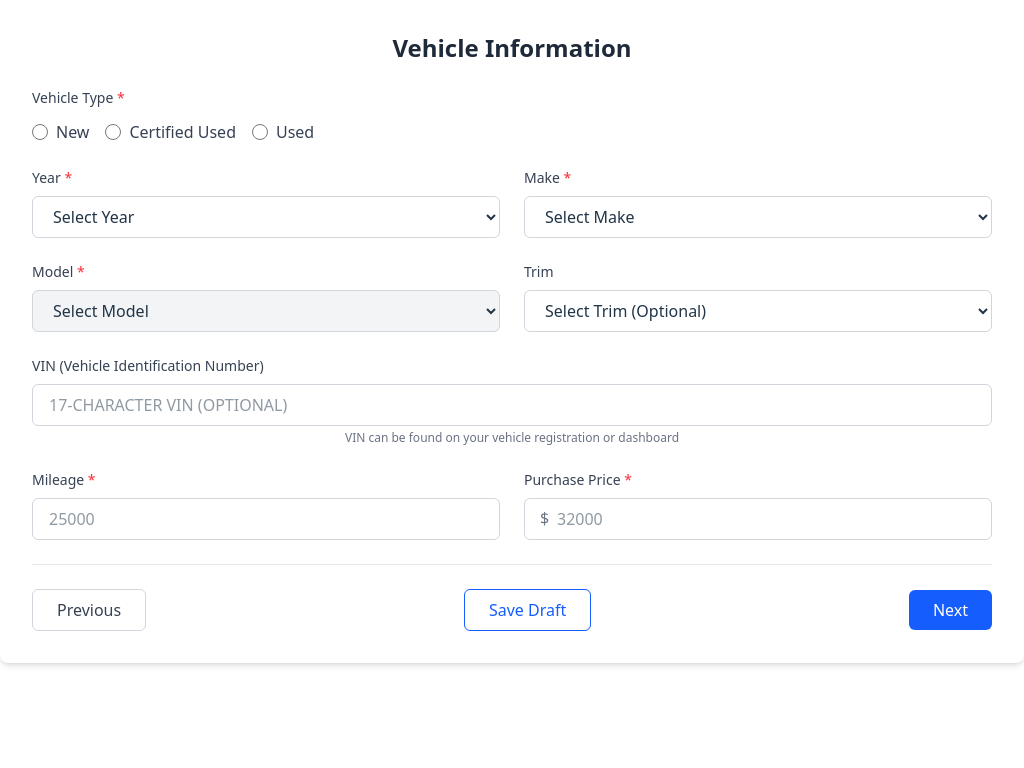
Test: VehicleInformation Component › Validation - VIN › should show error for invalid VIN length
Type "123" into the field labelled "VIN (Vehicle Identification Number)".
click(512, 405); type("123")  # box [32,384,992,426]
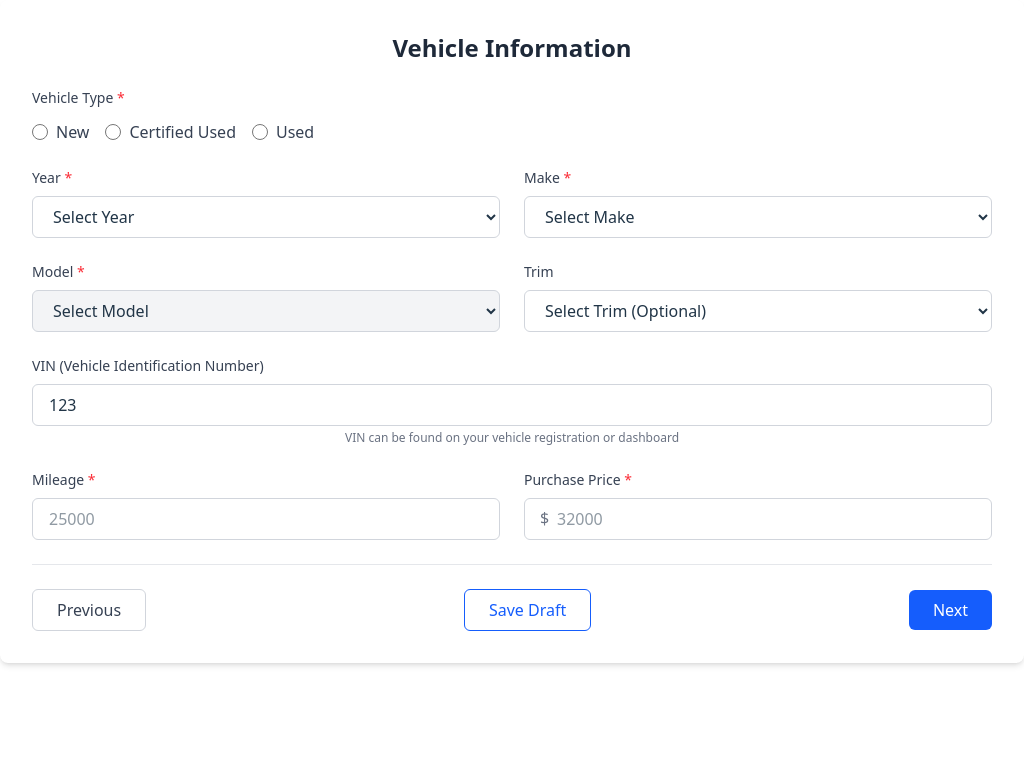
Leave the field labelled "VIN (Vehicle Identification Number)", box [32,384,992,426]
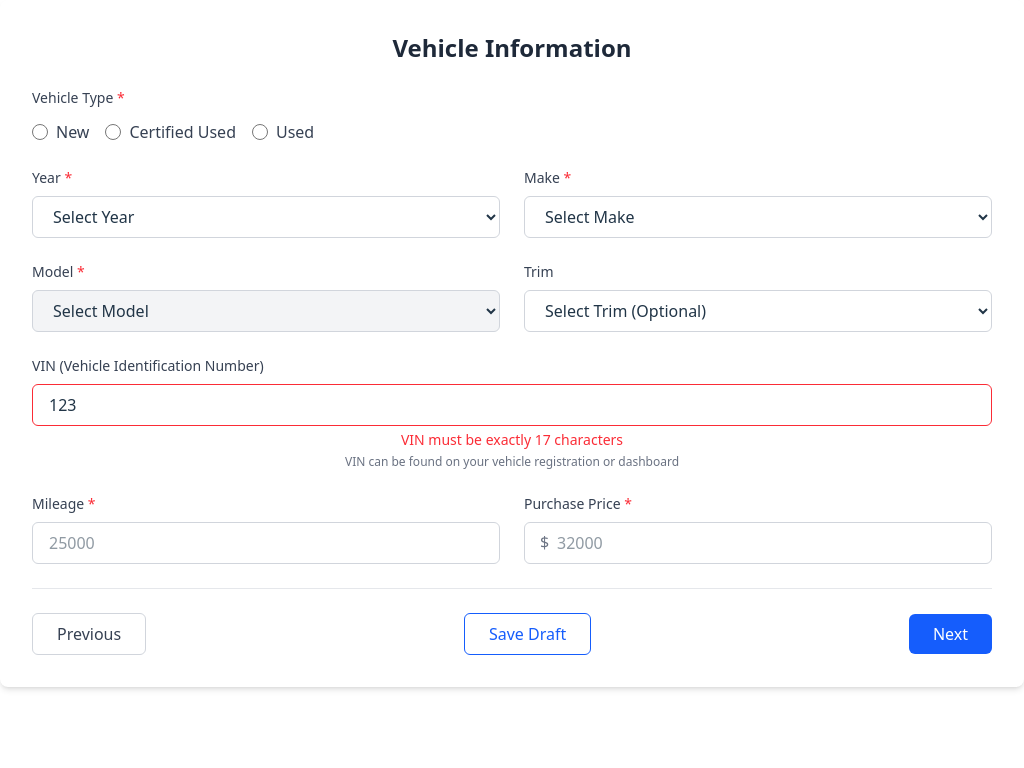
expect the text "VIN must be exactly 17 characters" is shown: met, box [401,430,623,449]
